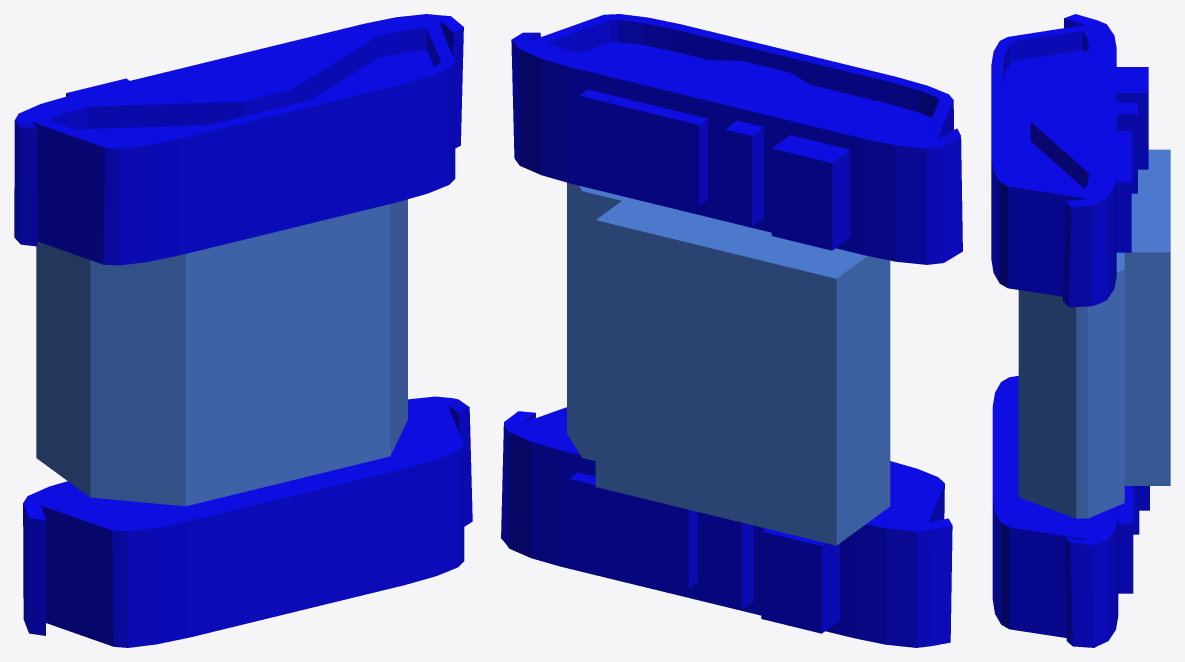
Rendered from PlayerBody.fbx.
The picture shows the model from 3 angles, left to right: view 1: azimuth 30°, elevation 25°; view 2: azimuth 150°, elevation 25°; view 3: azimuth 270°, elevation 25°; orthographic projection. The views are drawn at different scales.
Parts seen in each view (by area): view 1: Body; view 2: Body; view 3: Body.
Part boxes in pixels (box(x1,y1,x2,y2)): Body: box(14, 14, 472, 647); Body: box(501, 14, 962, 647); Body: box(991, 14, 1170, 647).
Size of the model in its own units: 220 by 237 by 86.45.
1 material, 1 textured.
